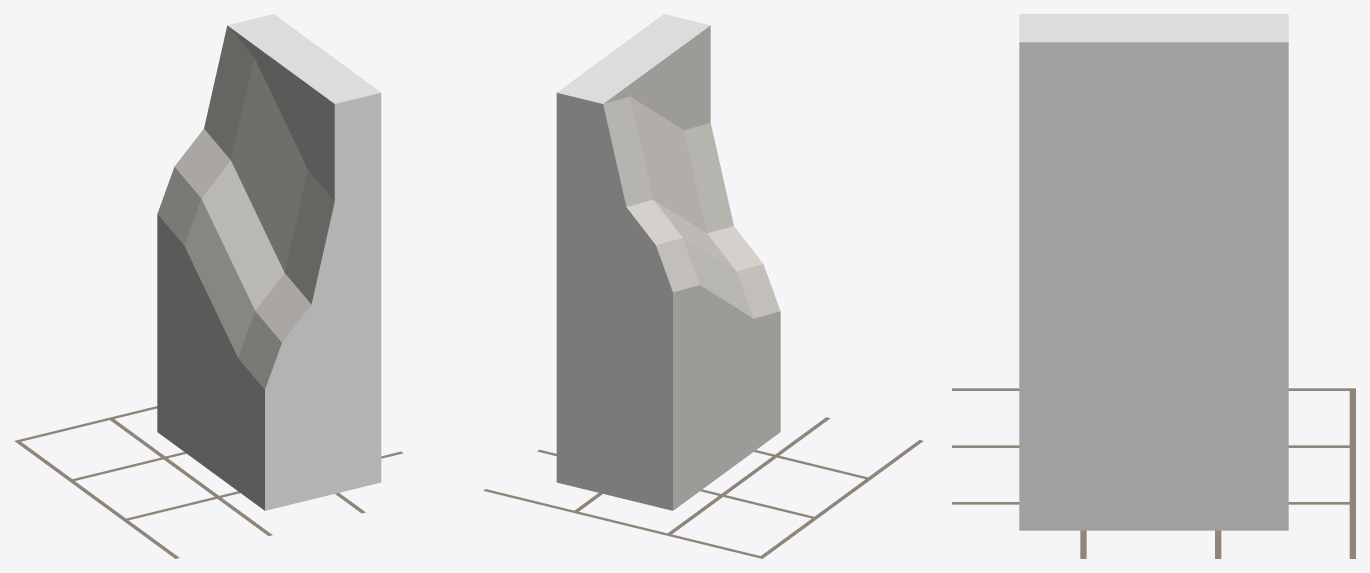
File: Basic_Incline_Base_2x2.glb
3 renders of one model, left to right at view 1: azimuth 30°, elevation 25°; view 2: azimuth 150°, elevation 25°; view 3: azimuth 270°, elevation 25°, orthographic. The views are drawn at different scales.
Visible parts, largest first — view 1: Basic_Incline_Base_2x2, Floor; view 2: Basic_Incline_Base_2x2, Floor; view 3: Basic_Incline_Base_2x2, Floor.
Boxes of the visible parts, x1,y1,x2,y2 form: Basic_Incline_Base_2x2: (157,14,381,510); Floor: (14,406,402,558); Basic_Incline_Base_2x2: (556,14,780,510); Floor: (483,417,923,558); Basic_Incline_Base_2x2: (1019,14,1288,530); Floor: (952,388,1355,558).
Size of the model in its own units: 300 by 400 by 300.
3 materials, 1 textured.
